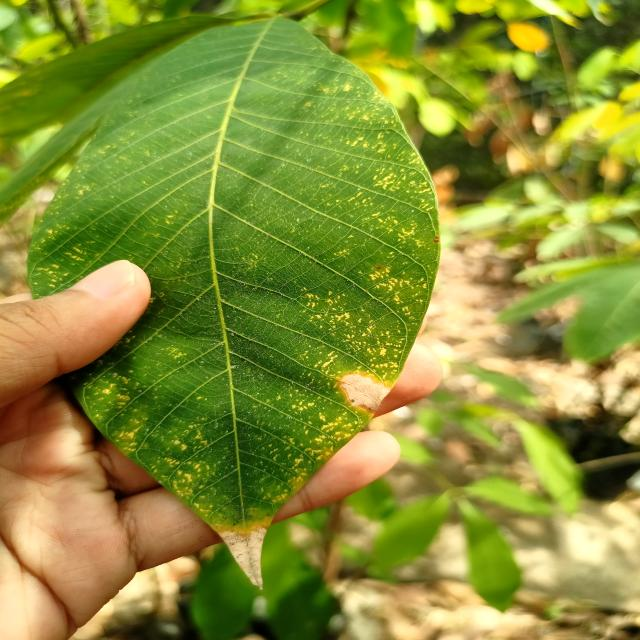Colletotrichum: (376, 265, 381, 269)
Leaf-Blight: (220, 526, 270, 590), (339, 373, 391, 414)
